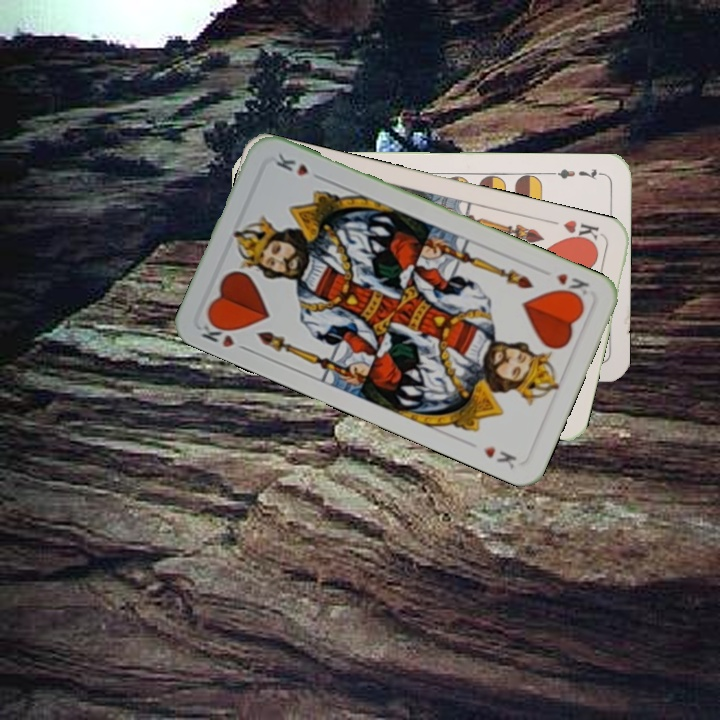E7: (546, 164, 605, 182)
HK: (197, 314, 253, 355), (559, 216, 607, 248), (552, 269, 592, 304)
